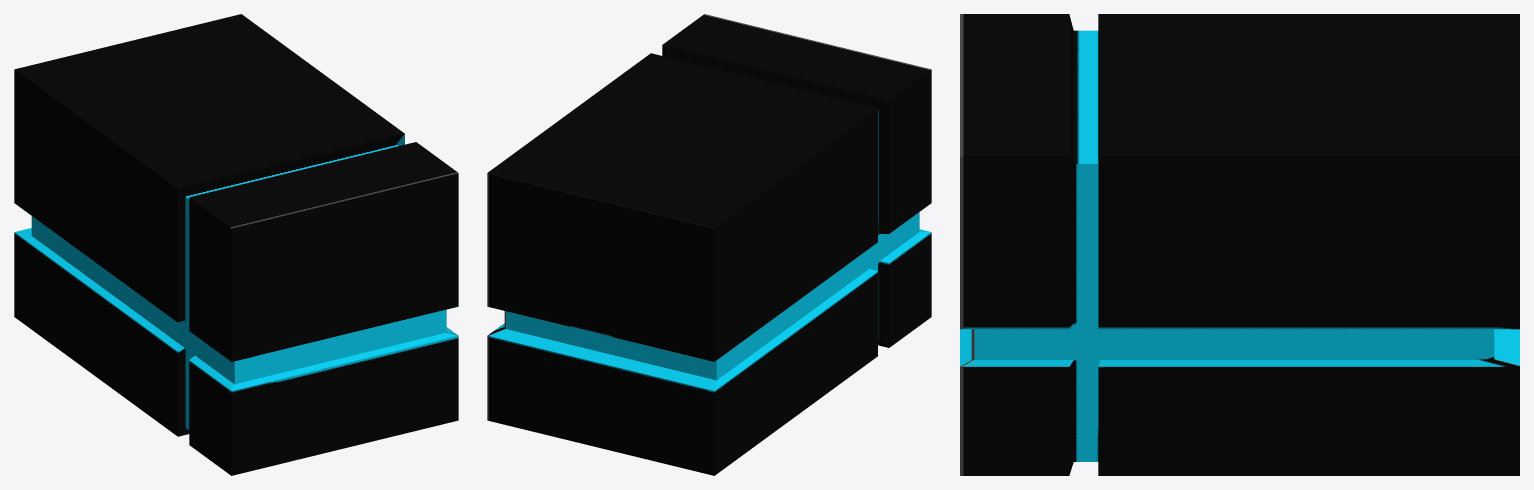
Rendered from Crate.fbx.
The picture shows the model from 3 angles, left to right: view 1: azimuth 30°, elevation 25°; view 2: azimuth 150°, elevation 25°; view 3: azimuth 270°, elevation 25°; orthographic projection. The views are drawn at different scales.
Visible parts, largest first — view 1: Cube.006; view 2: Cube.006; view 3: Cube.006.
Boxes of the visible parts, x1,y1,x2,y2 form: Cube.006: [14, 14, 458, 475]; Cube.006: [487, 14, 931, 475]; Cube.006: [960, 14, 1519, 475].
Size of the model in its own units: 121 by 126 by 200.
